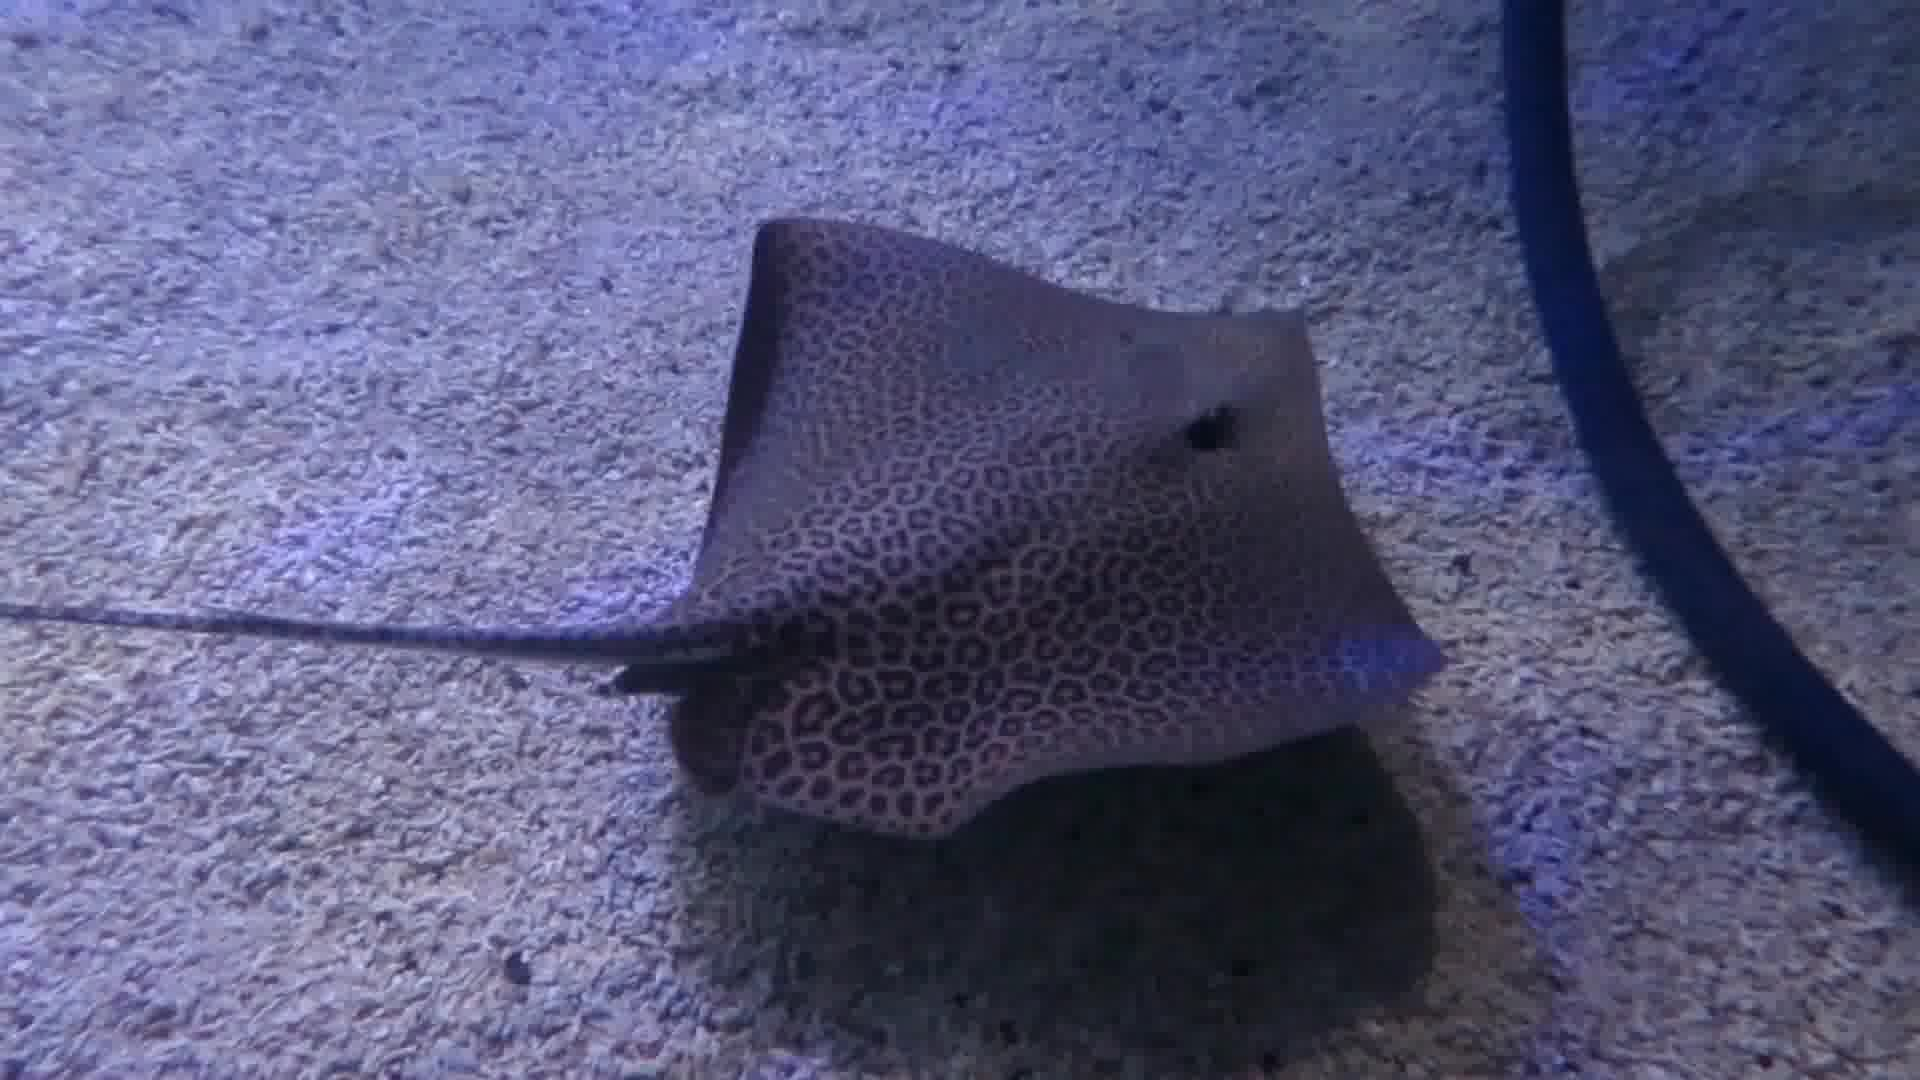Himantura uarnak: (459, 125, 1491, 951)
